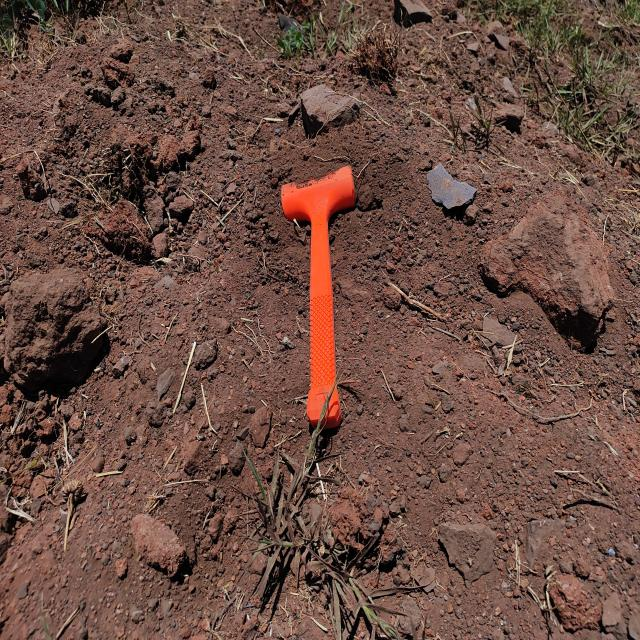Orange_hammer: (280, 164, 356, 432)
